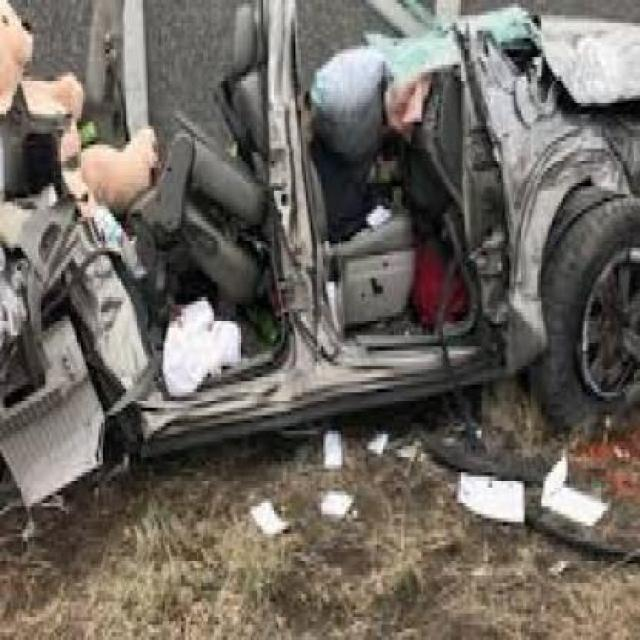accident: (6, 8, 640, 477)
